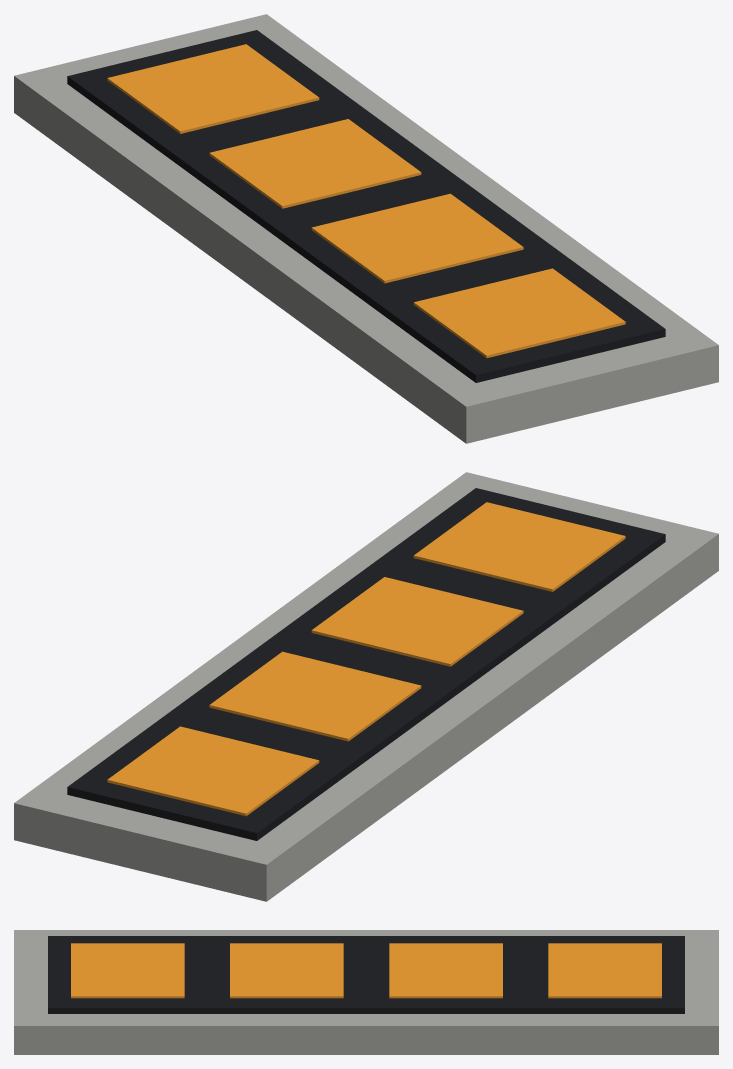
Rendered from civilian_skylight.glb.
3 views of the same model, one above another, from view 1: azimuth 30°, elevation 25°; view 2: azimuth 150°, elevation 25°; view 3: azimuth 270°, elevation 25° (orthographic). The views are drawn at different scales.
Bounding box in the file's own units: 0.2 × 0.036 × 0.62.
